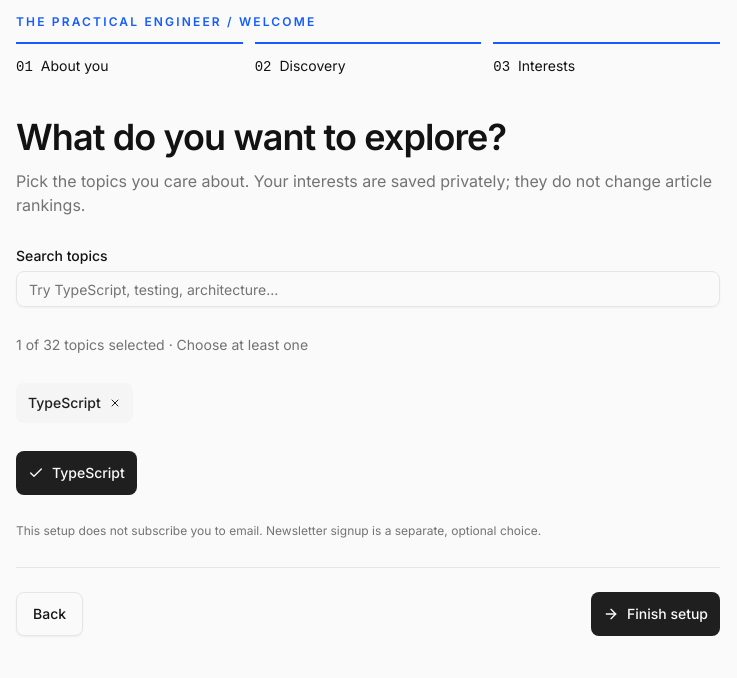
Test: offers a reload on conflicting progress and blocks duplicate save clicks
Click the button "Finish setup".
click(656, 614)  # box [591,592,720,636]
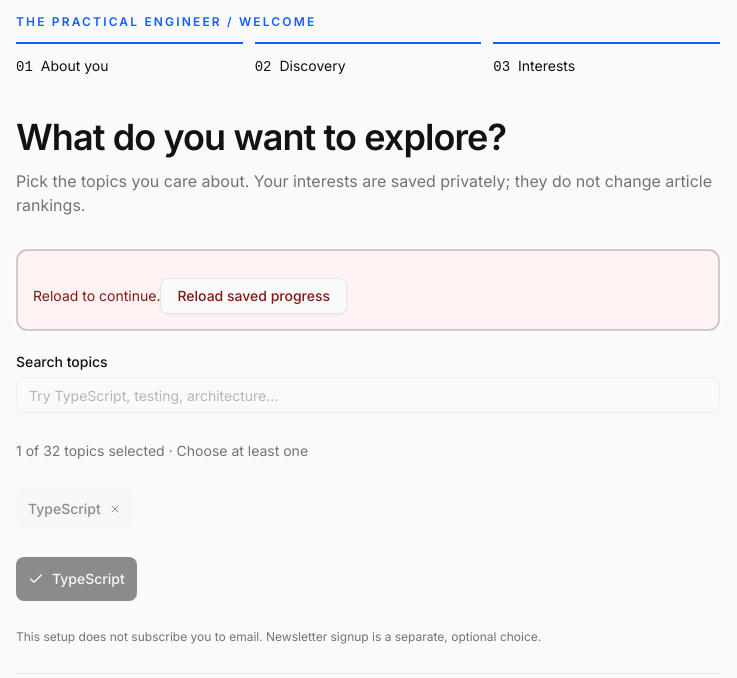
expect the button "Reload saved progress" is shown: met, box [160,278,347,314]
